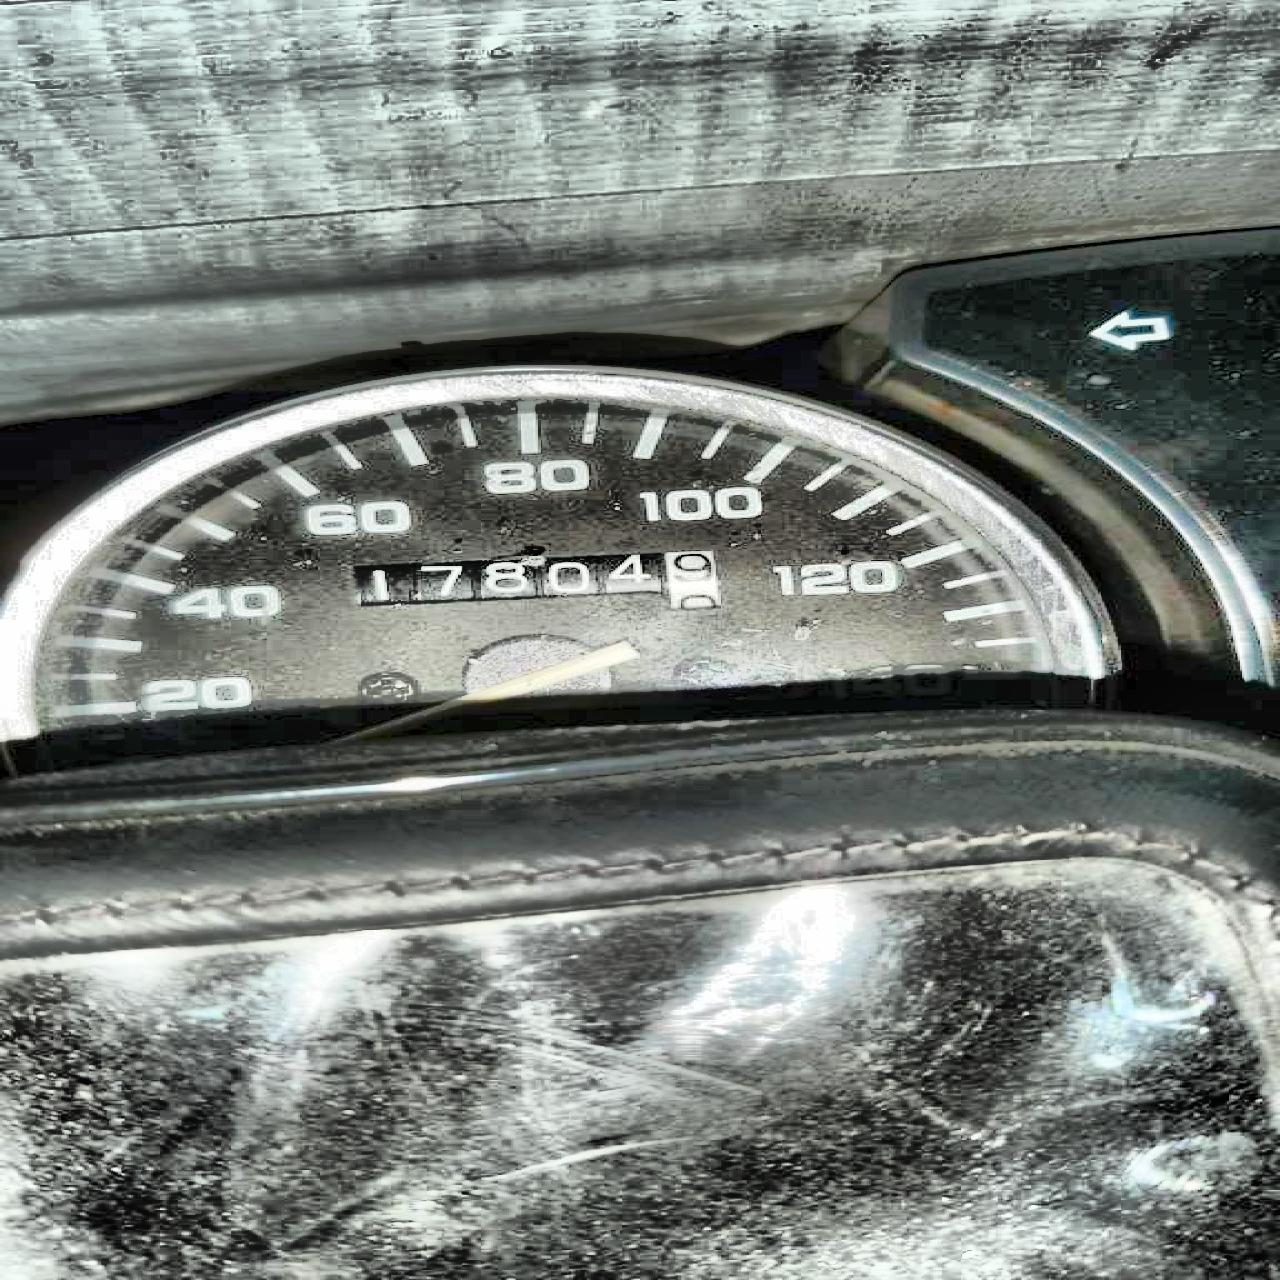0: (543, 560, 593, 594)
1: (362, 564, 400, 601)
4: (602, 550, 654, 585)
7: (411, 561, 464, 598)
8: (478, 560, 533, 594)
9: (665, 551, 715, 584)
odometer: (340, 545, 727, 613)
